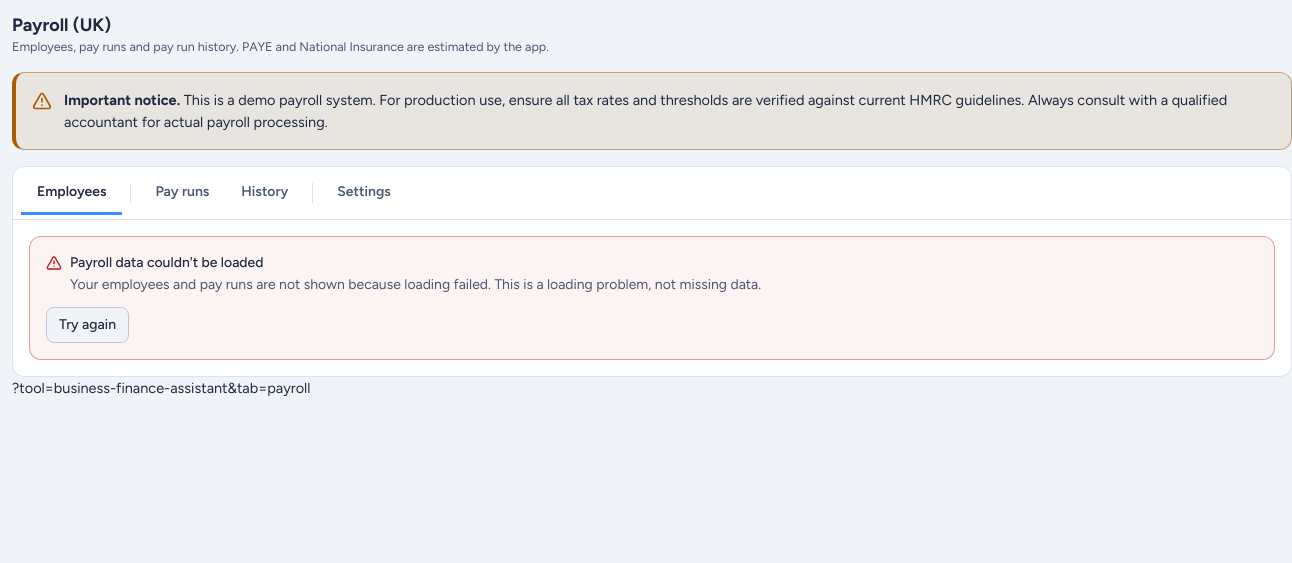
Test: PayrollUK › a failed load shows an error with Retry, not "No employees yet"; Retry loads again
Check: the text "Payroll data couldn't be loaded" is shown, box [70,254,264,271]
Check: the text "No employees yet" is not shown
Click the button "Try again": [88, 325] box [46,307,129,343]
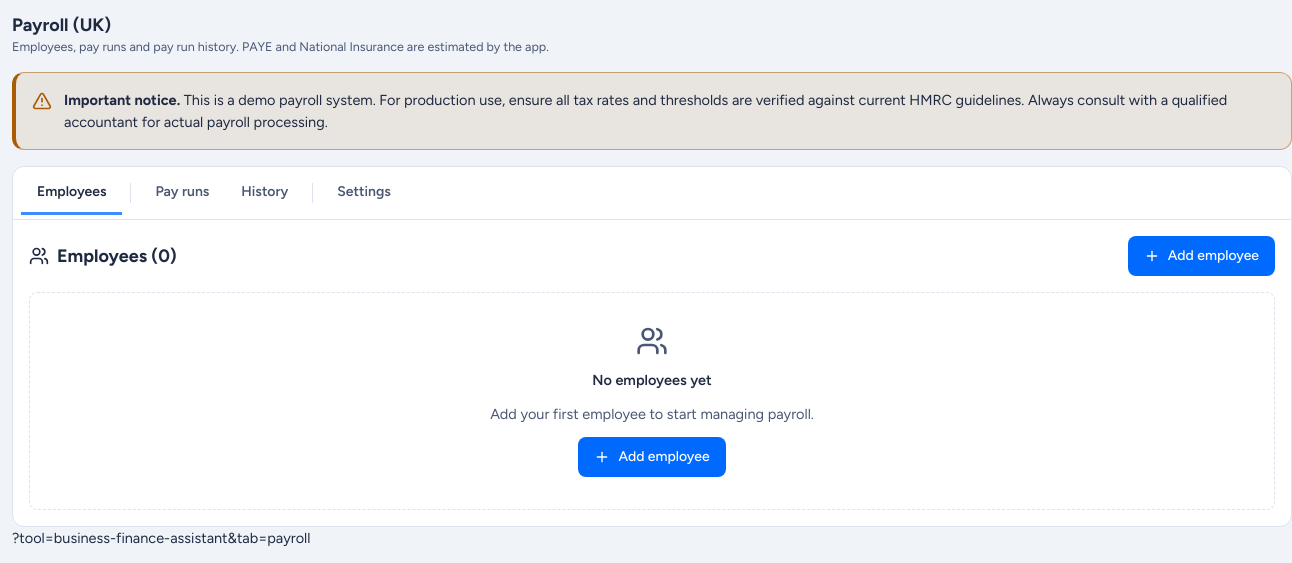
Check: the text "No employees yet" is shown, box [592,369,712,391]
